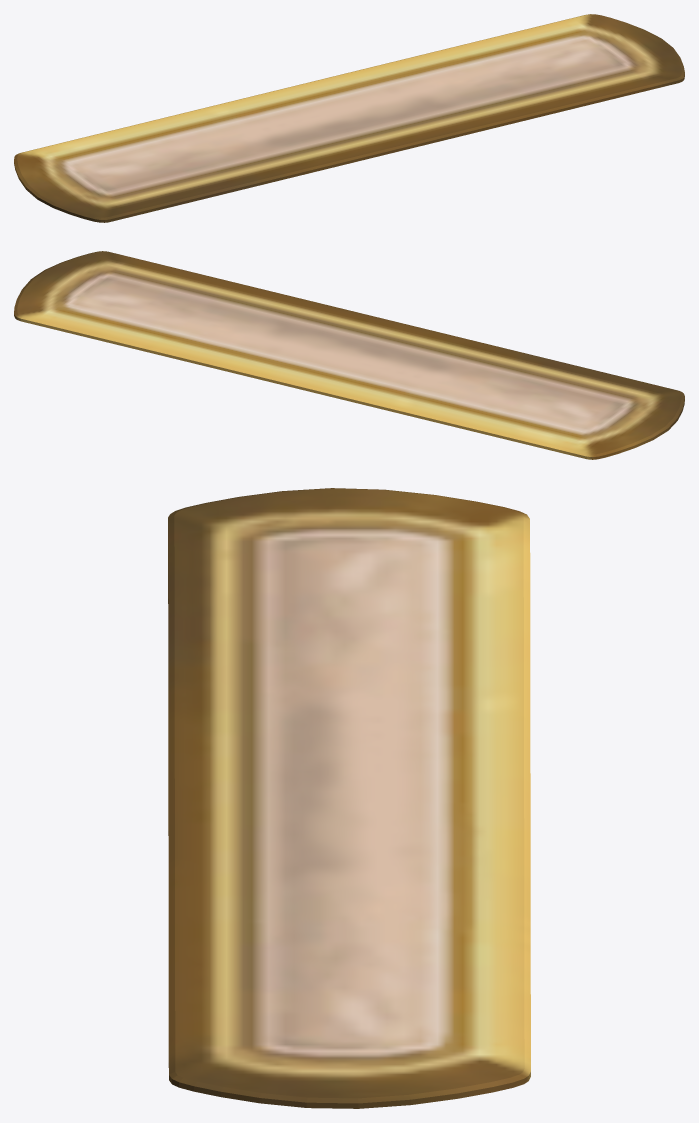
The model's file is Button_Option.glb.
The picture shows the model from 3 angles, top to bottom: view 1: azimuth 30°, elevation 25°; view 2: azimuth 150°, elevation 25°; view 3: azimuth 270°, elevation 25°; orthographic projection. The views are drawn at different scales.
Parts seen in each view (by area): view 1: Options; view 2: Options; view 3: Options.
Boxes of the visible parts, x1=… form: Options: x1=14, y1=14, x2=684, y2=222; Options: x1=14, y1=251, x2=684, y2=459; Options: x1=168, y1=488, x2=530, y2=1108.
Size of the model in its own units: 3.41 by 0.02 by 0.85.
1 material, 1 textured.
